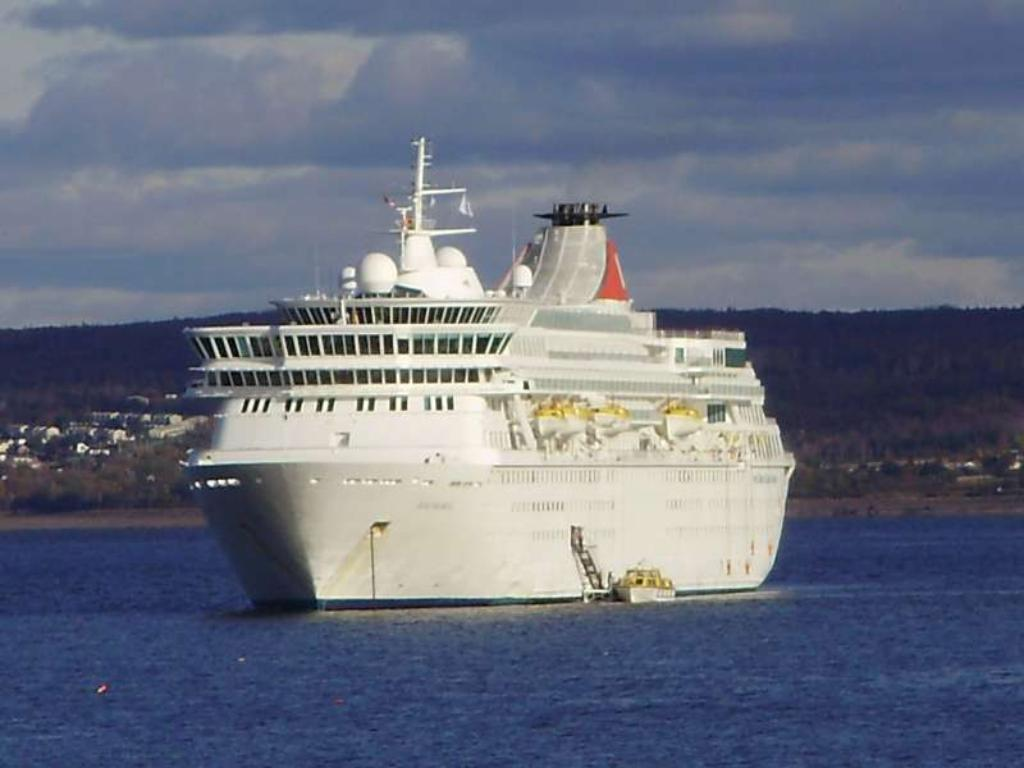PassengerShip: (158, 124, 800, 610)
